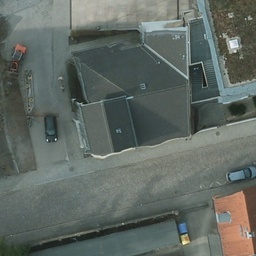car: (227, 164, 256, 183), (43, 115, 57, 143)
